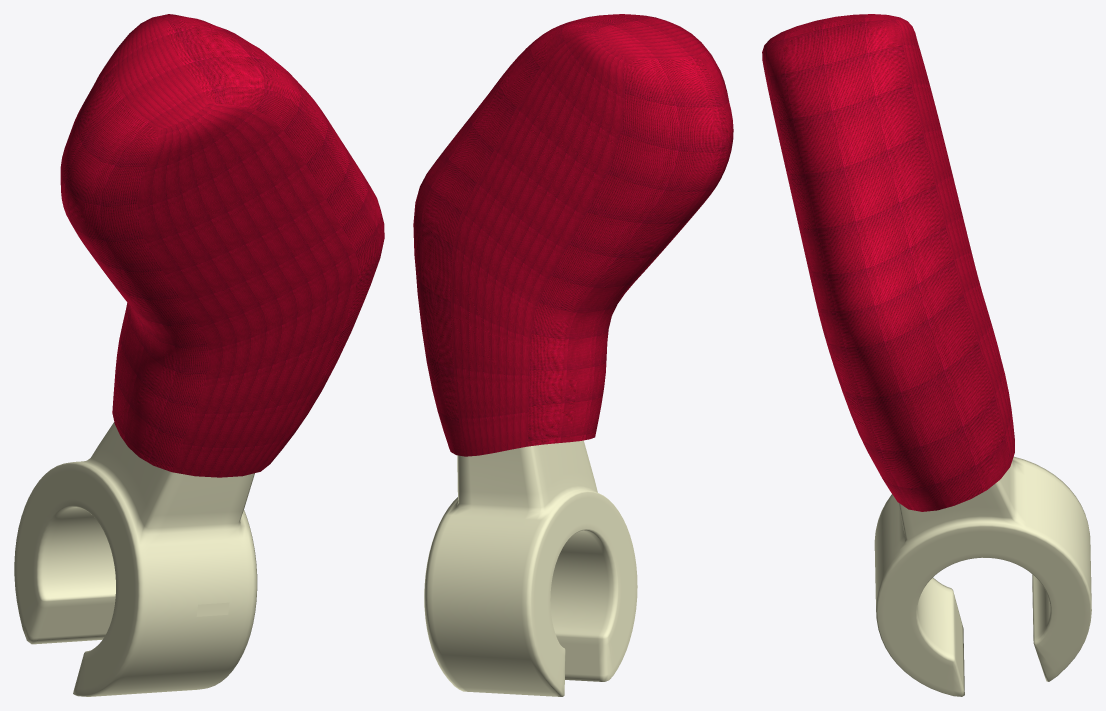
Rendered from brazoder.obj.
The picture shows the model from 3 angles, left to right: view 1: azimuth 30°, elevation 25°; view 2: azimuth 150°, elevation 25°; view 3: azimuth 270°, elevation 25°; orthographic projection. The views are drawn at different scales.
Visible parts, largest first — view 1: kevin:Box007; view 2: kevin:Box007; view 3: kevin:Box007.
Boxes of the visible parts, left/top/right/bottom form: kevin:Box007: left=14, top=14, right=384, bottom=696; kevin:Box007: left=413, top=14, right=733, bottom=696; kevin:Box007: left=762, top=14, right=1091, bottom=696.
Size of the model in its own units: 0.6361 by 1.32 by 0.6089.
Materials: 2 (2 with a texture image).
